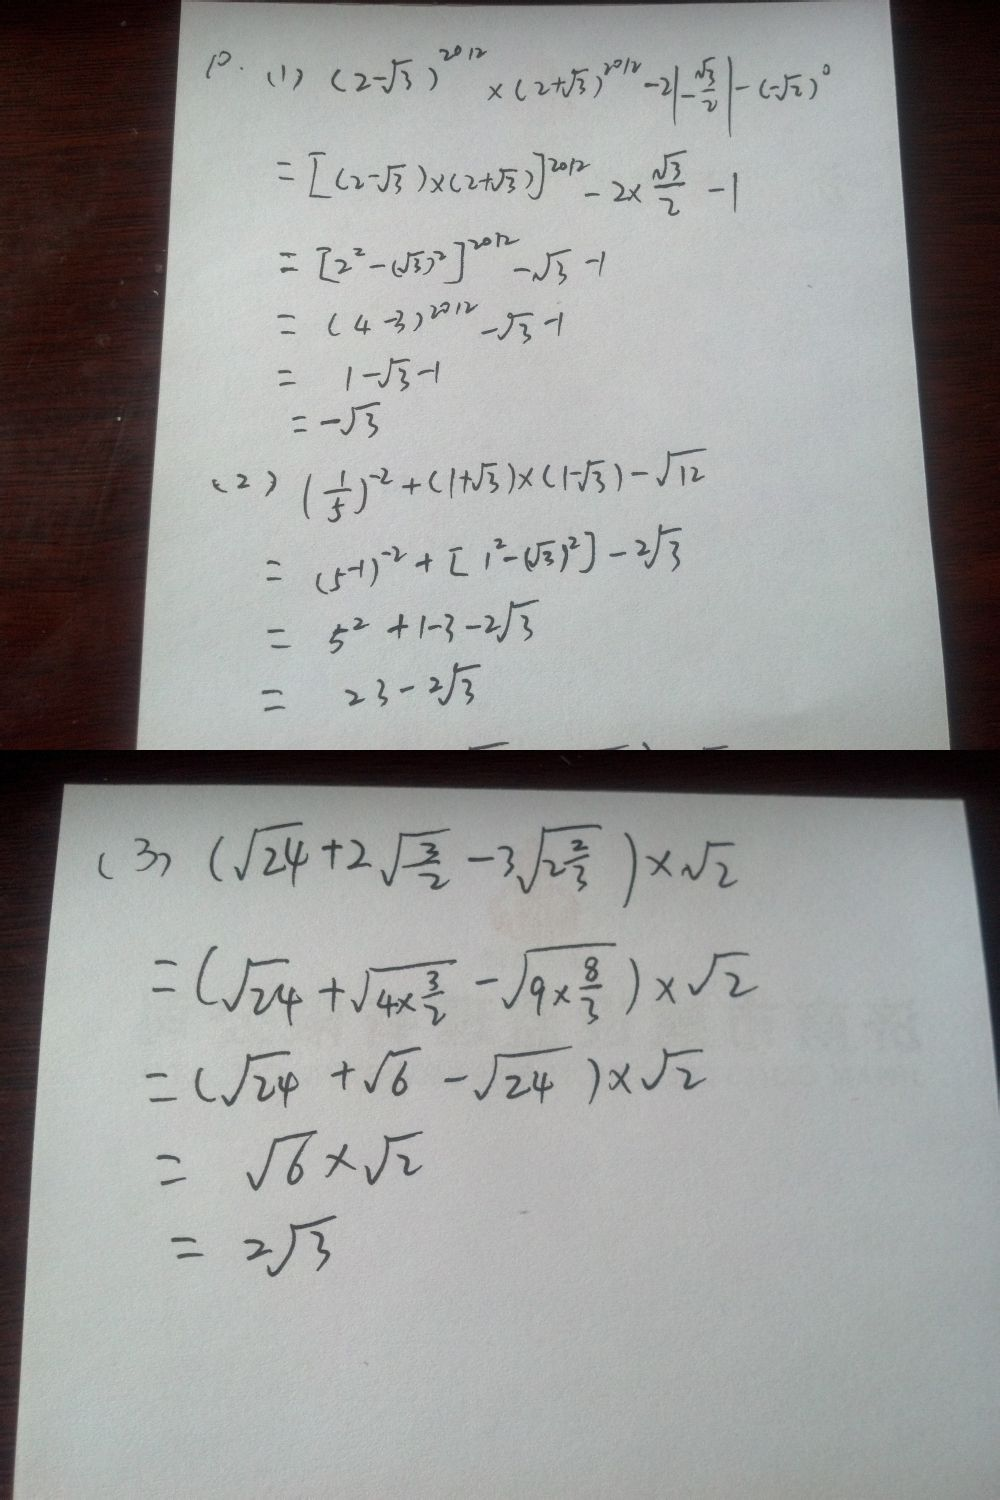division: (402, 847, 449, 878), (555, 847, 594, 875), (412, 984, 451, 1009), (571, 973, 605, 998)
sqrt: (499, 937, 621, 1030), (344, 948, 468, 1023), (227, 814, 321, 903), (376, 823, 463, 905), (229, 951, 301, 1030), (638, 520, 698, 583), (660, 445, 713, 497), (379, 48, 421, 100)
